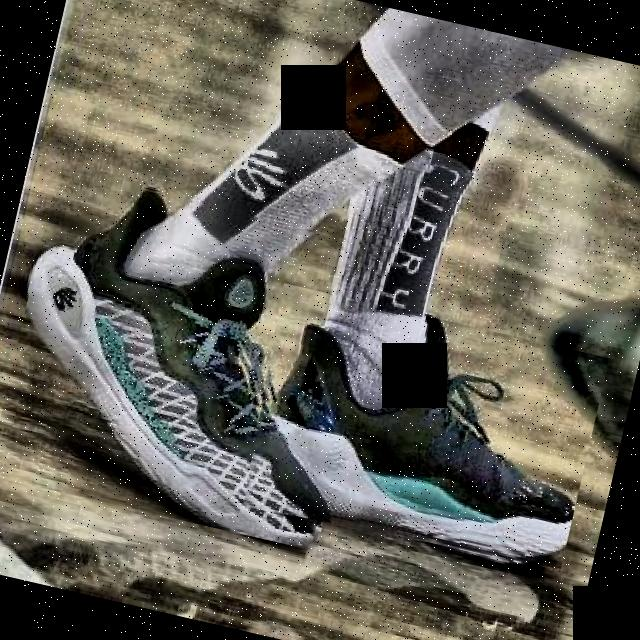shoe: (0, 165, 385, 550), (232, 283, 608, 578)
